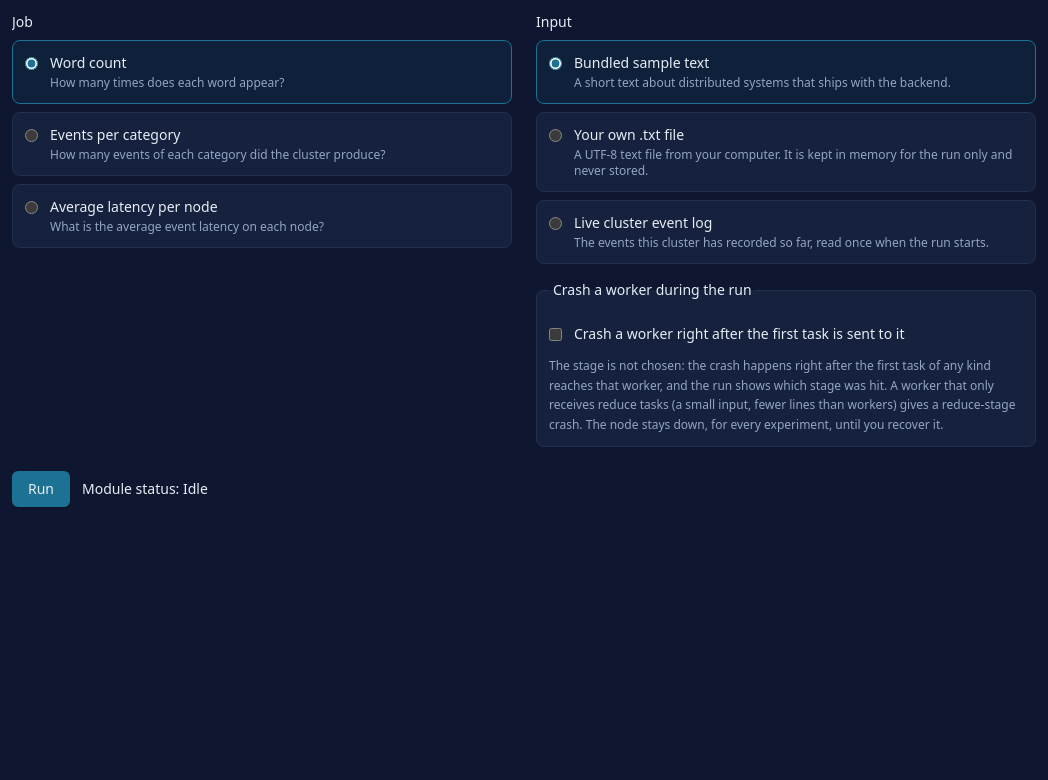
Test: RunControls › shows the backend's 400 field message for the file under the file picker
The image size is (1048, 780).
Click the radio button labelled "Your own .txt file" at (556, 136), box [549,129,562,142]
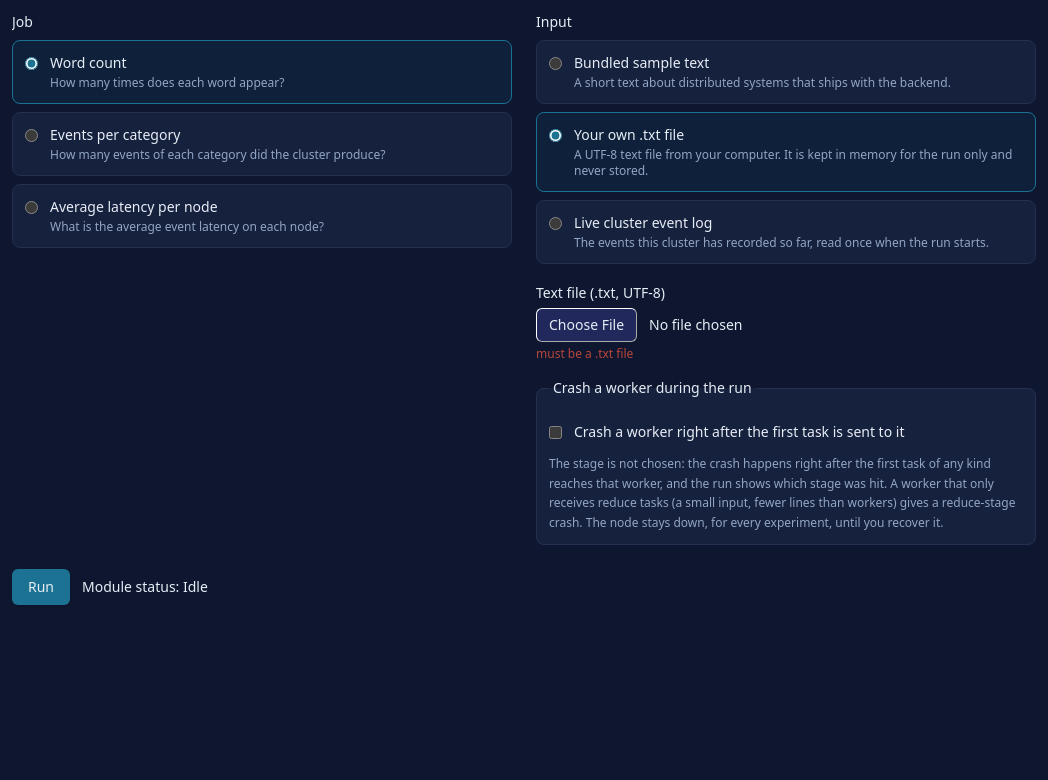
Now the text "must be a .txt file" is shown, box [536,345,633,362]
